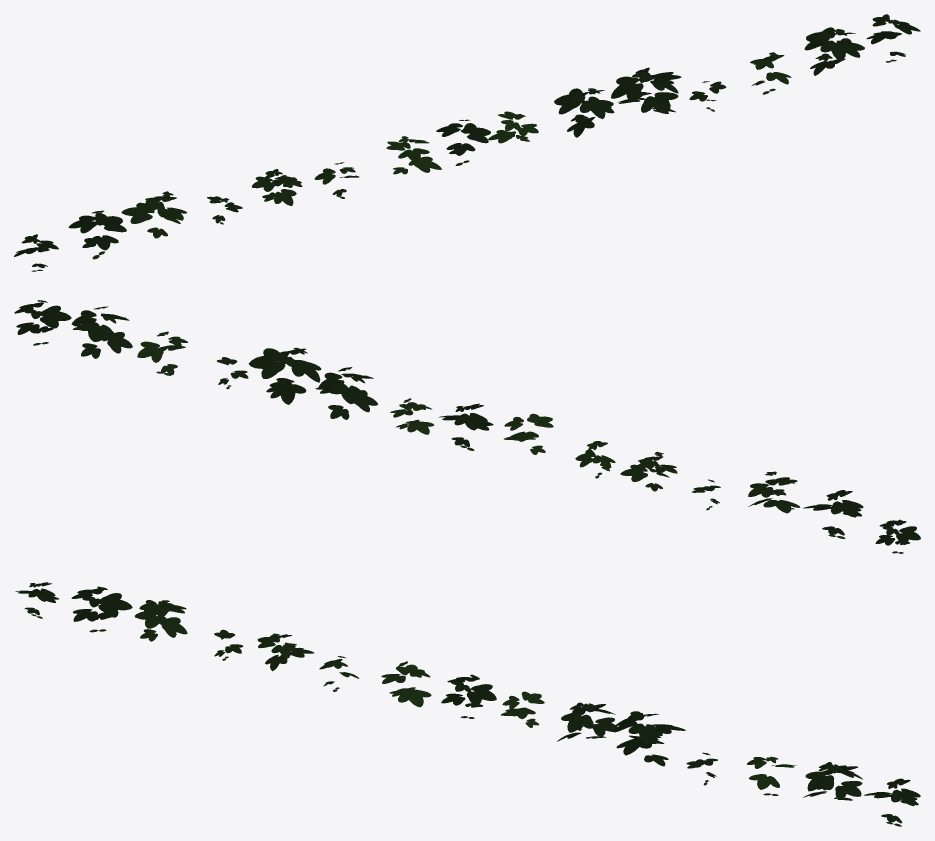
The model's file is ROW_21_SEG3_foliage.dae.
3 renders of one model, top to bottom at view 1: azimuth 30°, elevation 25°; view 2: azimuth 150°, elevation 25°; view 3: azimuth 330°, elevation 25°, orthographic.
Parts seen in each view (by area): view 1: ROW_21_SEG3_foliage; view 2: ROW_21_SEG3_foliage; view 3: ROW_21_SEG3_foliage.
Part boxes in pixels (x1=…): ROW_21_SEG3_foliage: x1=14, y1=14, x2=920, y2=271; ROW_21_SEG3_foliage: x1=14, y1=300, x2=920, y2=553; ROW_21_SEG3_foliage: x1=15, y1=582, x2=920, y2=826.
Size of the model in its own units: 4.5 by 0.3307 by 0.2596.
